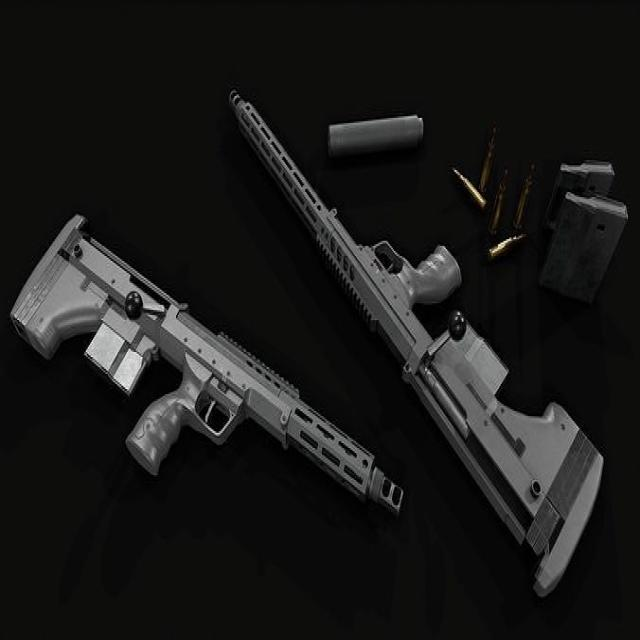Rifle: (227, 93, 605, 603), (9, 216, 404, 515)
